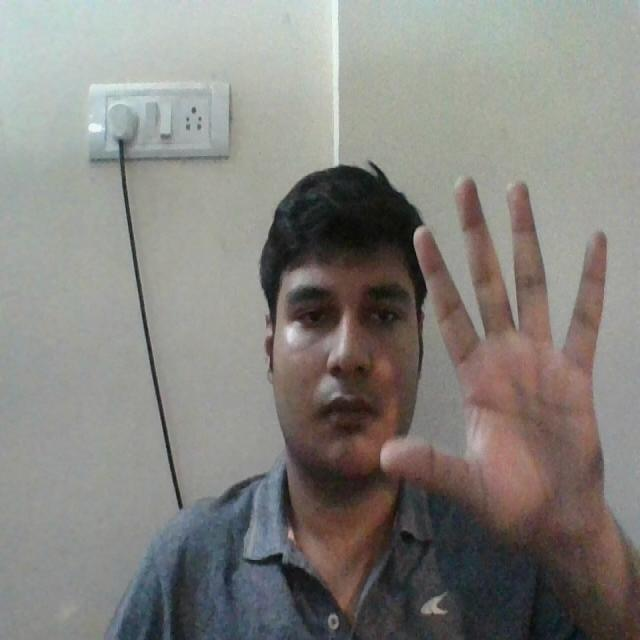Hello: (402, 158, 623, 571)
